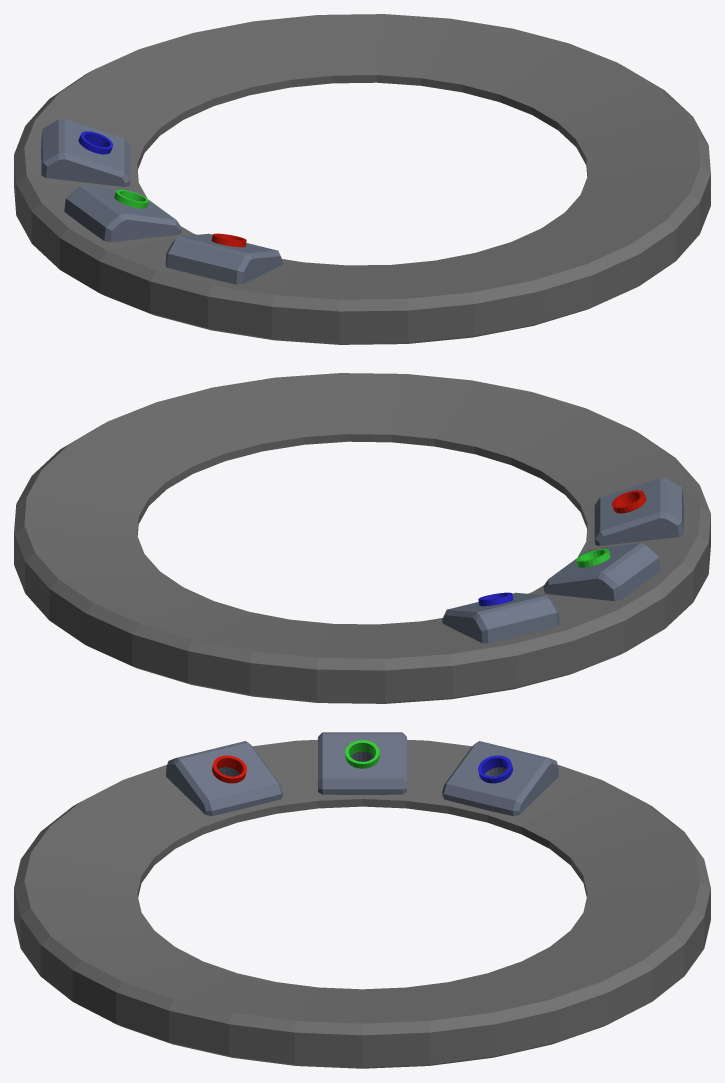
The model's file is Body.fbx.
3 renders of one model, top to bottom at view 1: azimuth 30°, elevation 25°; view 2: azimuth 150°, elevation 25°; view 3: azimuth 270°, elevation 25°, orthographic.
Visible parts, largest first — view 1: Cylinder; view 2: Cylinder; view 3: Cylinder.
Part boxes in pixels (x1,y1,x2,y2): Cylinder: (14, 14, 710, 344); Cylinder: (14, 373, 710, 703); Cylinder: (14, 732, 710, 1068).
Bounding box in the file's own units: 1566 × 1566 × 162.
